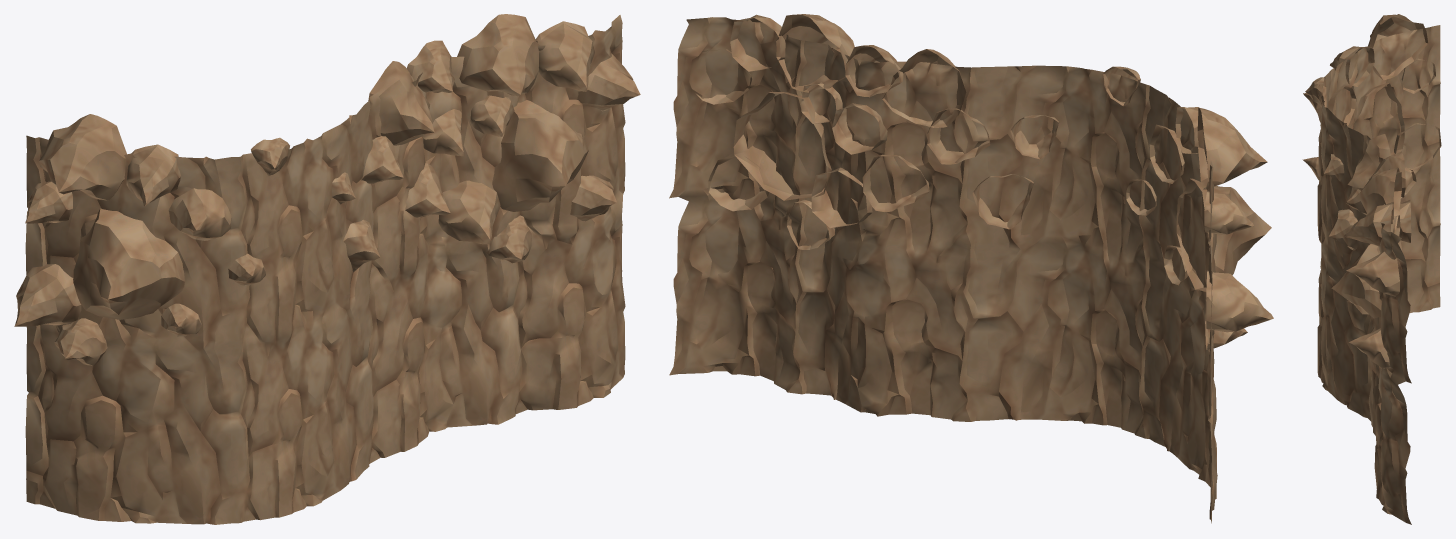
The model's file is SM_ENV_KNFRST_Cliff_Ic.FBX.
3 renders of one model, left to right at view 1: azimuth 30°, elevation 25°; view 2: azimuth 150°, elevation 25°; view 3: azimuth 270°, elevation 25°, orthographic. The views are drawn at different scales.
Visible parts, largest first — view 1: SM_ENV_KNFRST_Cliff_Ic; view 2: SM_ENV_KNFRST_Cliff_Ic; view 3: SM_ENV_KNFRST_Cliff_Ic.
Boxes of the visible parts, <box> form: SM_ENV_KNFRST_Cliff_Ic: <box>14,14,640,524</box>; SM_ENV_KNFRST_Cliff_Ic: <box>669,14,1273,523</box>; SM_ENV_KNFRST_Cliff_Ic: <box>1302,14,1441,524</box>.
Bounding box in the file's own units: 5554 × 3420 × 1404.
